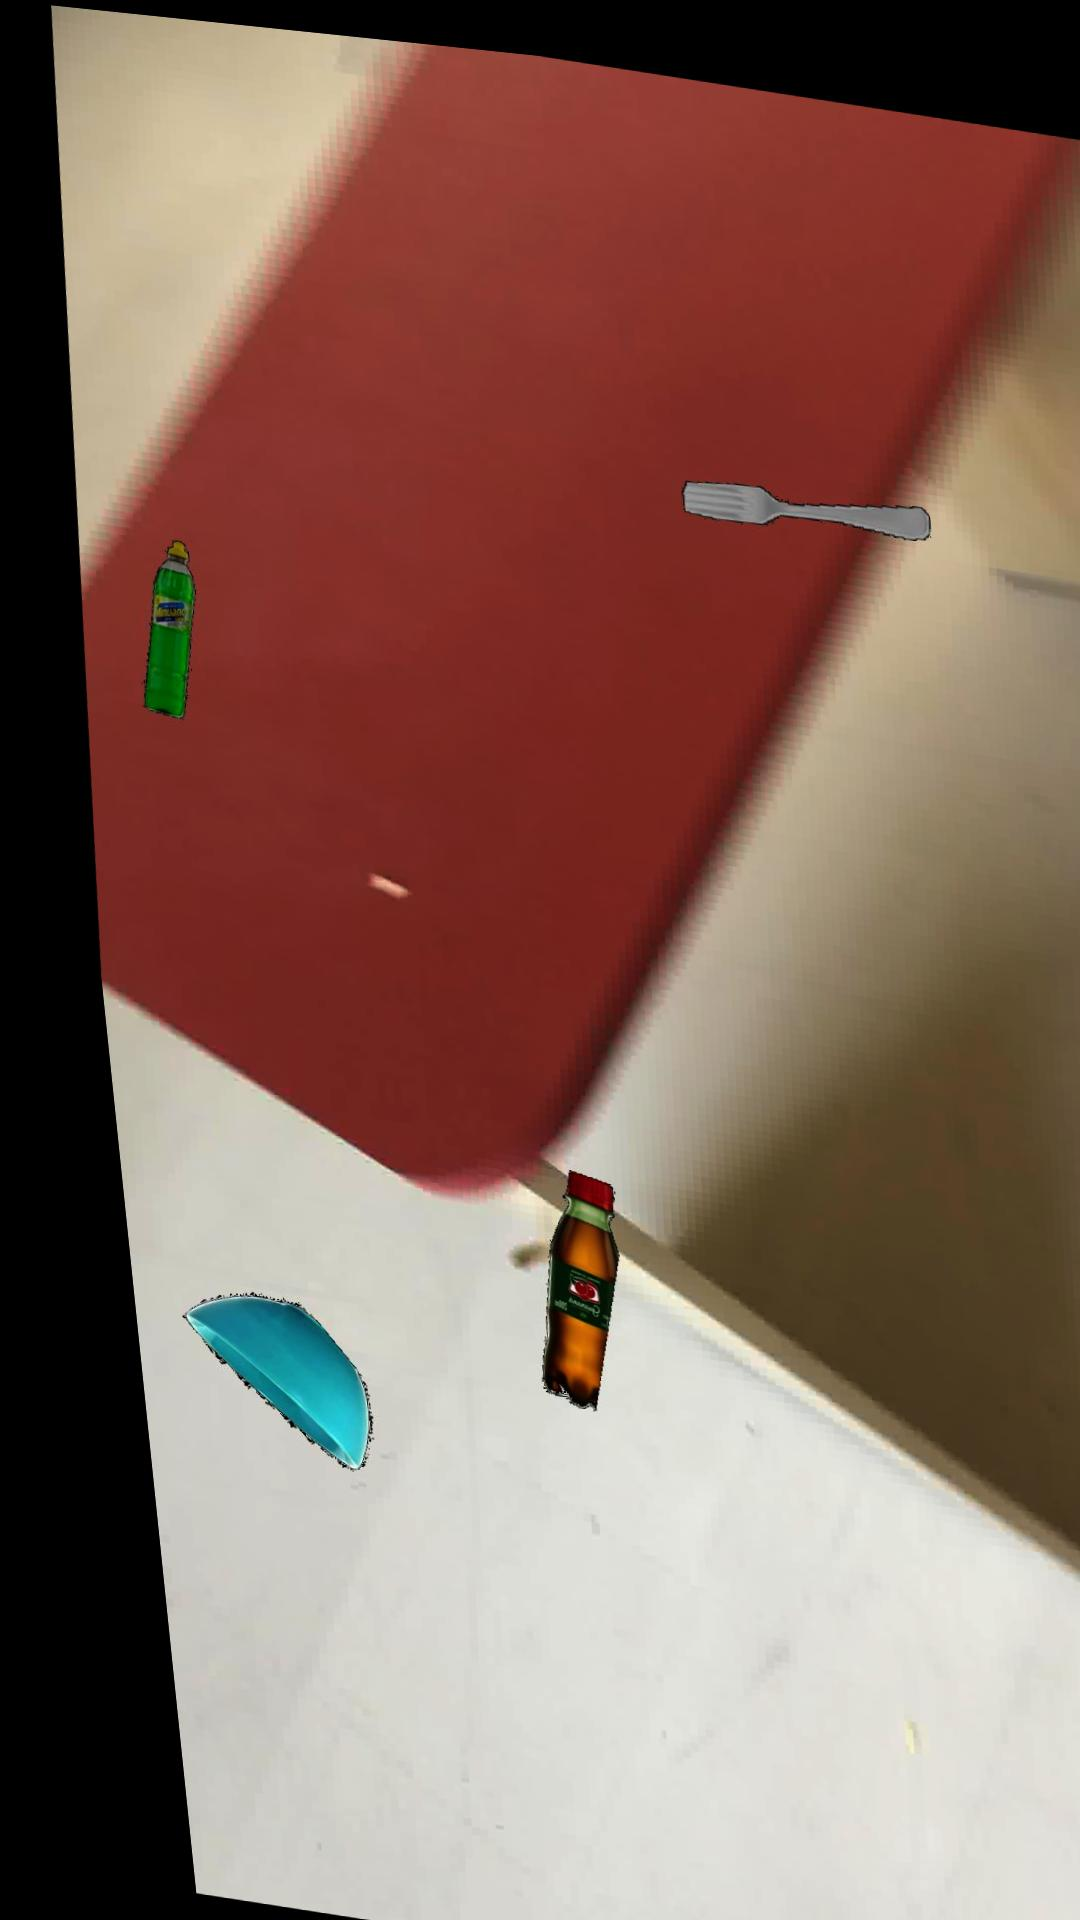bowl: (153, 1288, 343, 1462)
cleaner: (128, 535, 183, 712)
fork: (673, 464, 920, 520)
guarana: (513, 1158, 593, 1398)
